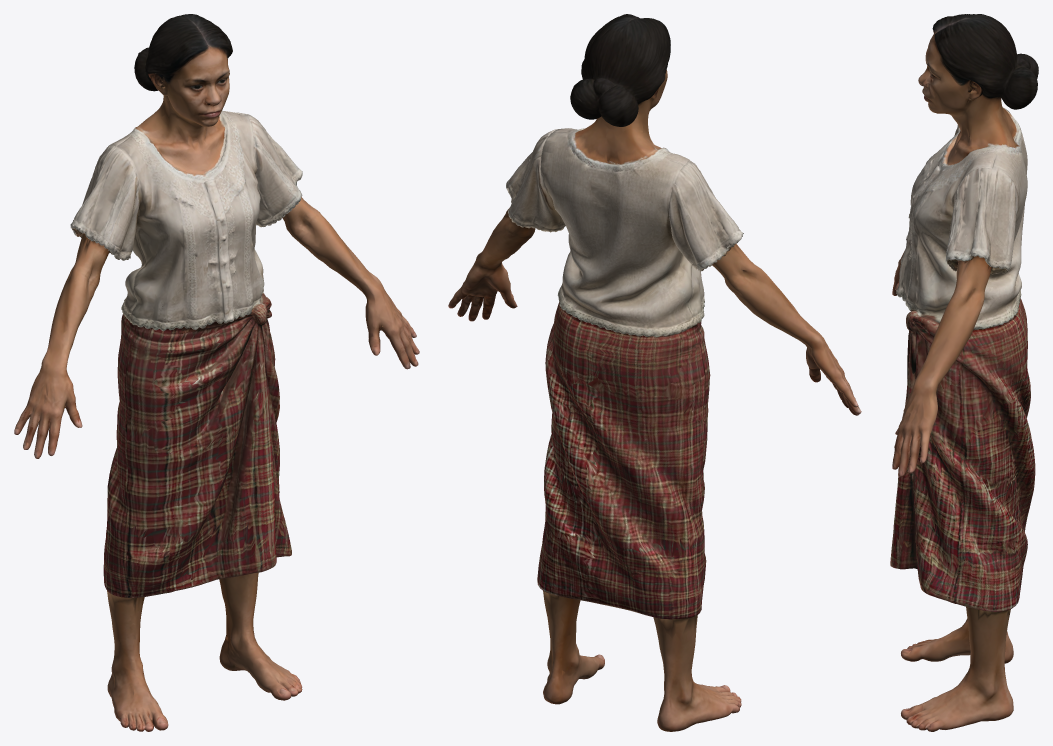
File: aswang_human.glb
The picture shows the model from 3 angles, left to right: view 1: azimuth 30°, elevation 25°; view 2: azimuth 150°, elevation 25°; view 3: azimuth 270°, elevation 25°; orthographic projection.
Visible parts, largest first — view 1: model; view 2: model; view 3: model.
Boxes of the visible parts, bbox=[...] form: model: bbox=[14, 14, 419, 731]; model: bbox=[448, 14, 861, 731]; model: bbox=[890, 14, 1038, 731].
Size of the model in its own units: 0.612 by 0.9788 by 0.1962.
1 material, 1 textured.
